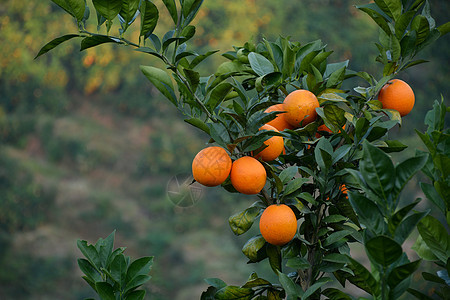orange: (190, 146, 232, 185), (227, 155, 266, 192), (260, 204, 299, 241), (378, 77, 413, 118), (247, 123, 284, 160), (284, 89, 317, 124), (262, 102, 294, 134)
